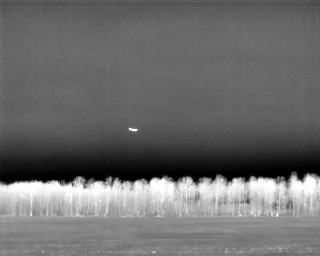DRONE: (124, 123, 142, 136)
